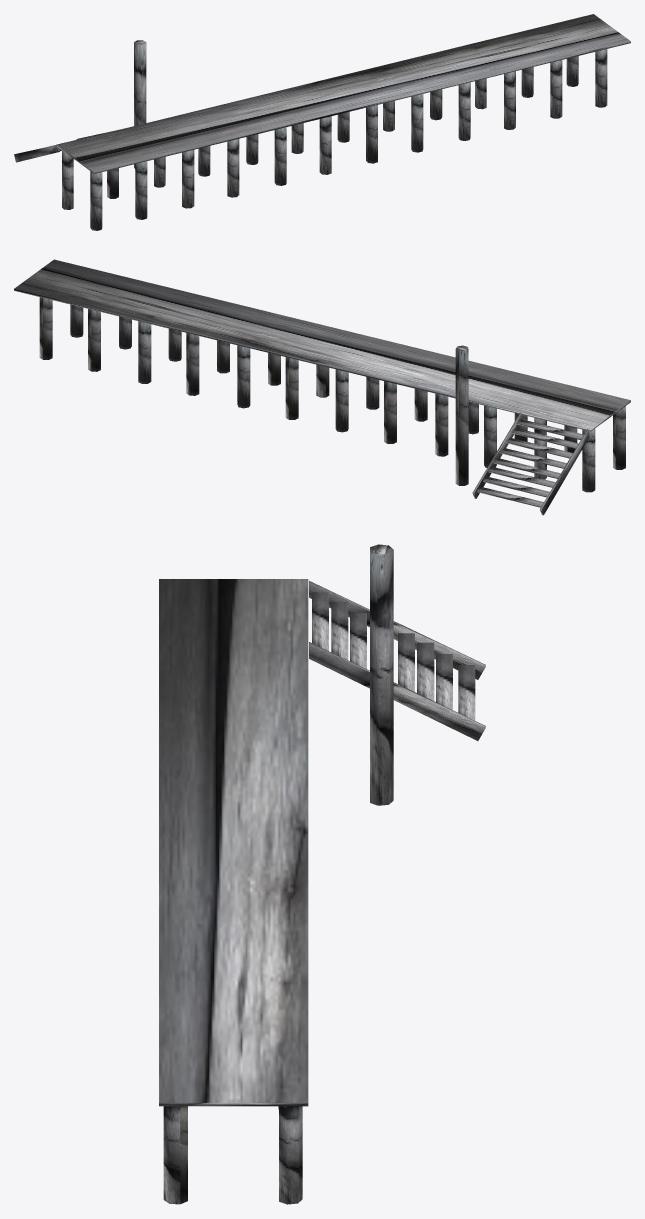
The model's file is Muelle001.glb.
3 renders of one model, top to bottom at view 1: azimuth 30°, elevation 25°; view 2: azimuth 150°, elevation 25°; view 3: azimuth 270°, elevation 25°, orthographic. The views are drawn at different scales.
Visible parts, largest first — view 1: Muelle001; view 2: Muelle001; view 3: Muelle001.
Boxes of the visible parts, x1,y1,x2,y2 form: Muelle001: [14, 14, 630, 230]; Muelle001: [14, 259, 630, 515]; Muelle001: [159, 544, 485, 1204].
Bounding box in the file's own units: 22.46 × 5.02 × 5.93.
Materials: 1 (1 with a texture image).
